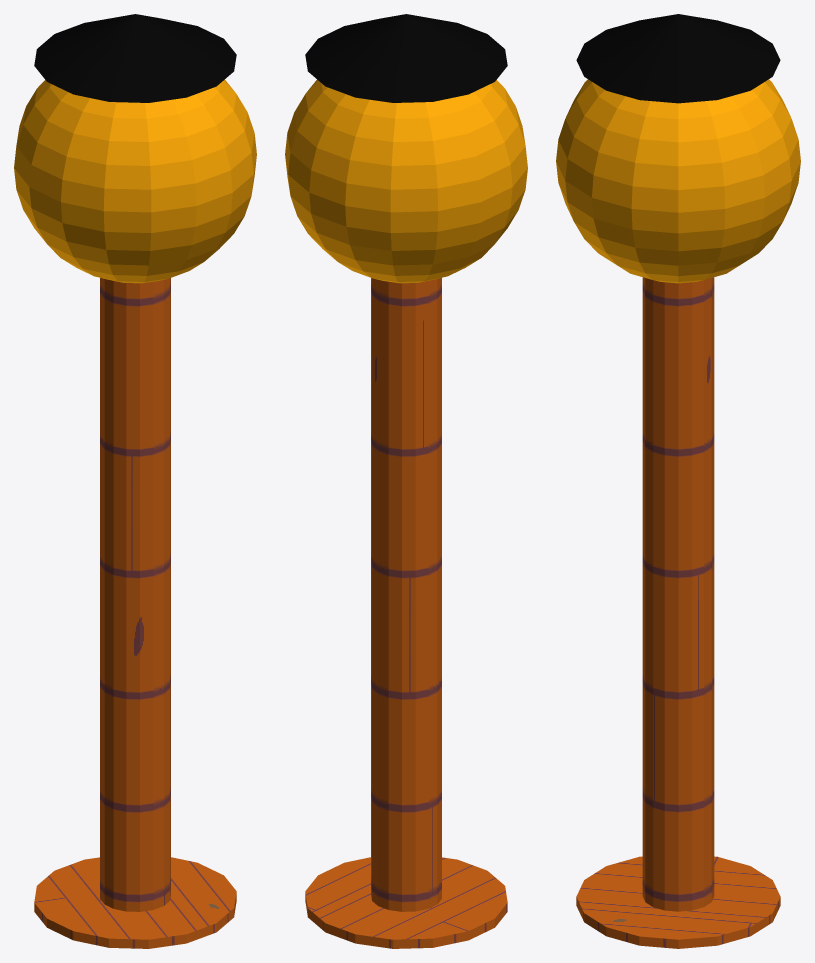
The model's file is lampa.fbx.
3 views of the same model, side by side, from view 1: azimuth 30°, elevation 25°; view 2: azimuth 150°, elevation 25°; view 3: azimuth 270°, elevation 25° (orthographic).
Parts seen in each view (by area): view 1: Cylinder.001, Sphere, Cone; view 2: Cylinder.001, Sphere, Cone; view 3: Cylinder.001, Sphere, Cone.
Boxes of the visible parts, box(x1,y1,x2,y2) form: Cylinder.001: box(34, 278, 236, 948); Sphere: box(14, 79, 256, 283); Cone: box(34, 14, 236, 102); Cylinder.001: box(305, 278, 507, 948); Sphere: box(285, 79, 527, 283); Cone: box(305, 14, 507, 102); Cylinder.001: box(576, 277, 780, 948); Sphere: box(556, 79, 800, 283); Cone: box(576, 14, 780, 103).
Size of the model in its own units: 24 by 96.4 by 24.
